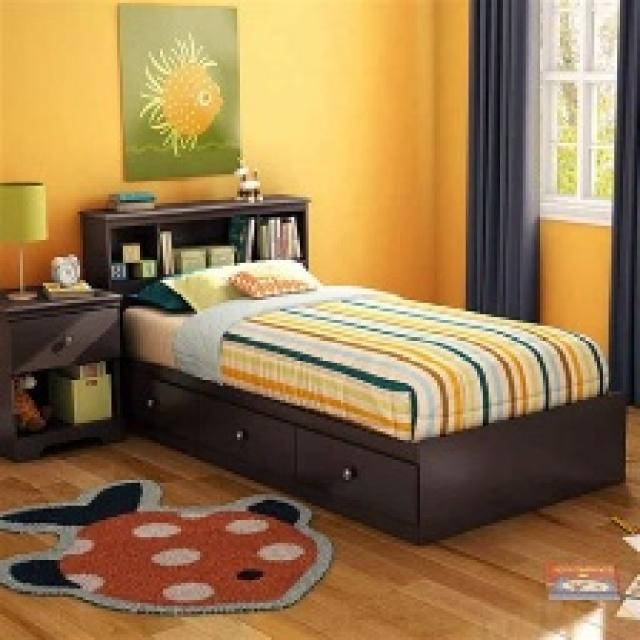Bed: (77, 194, 626, 546)
